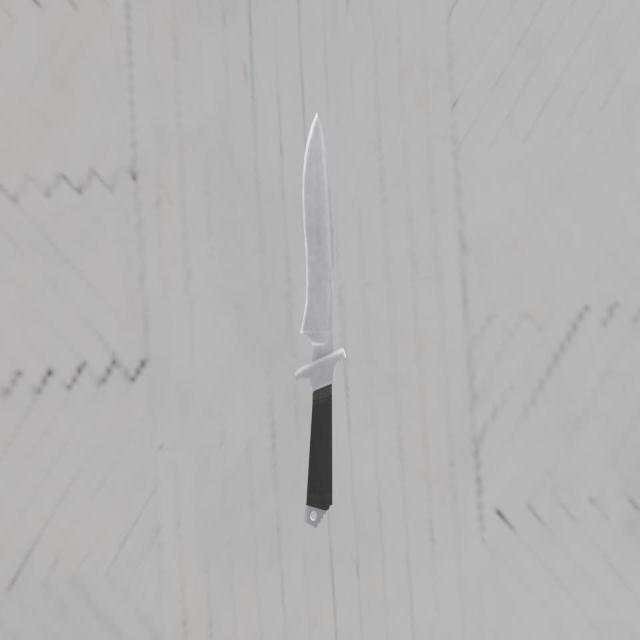knife: (305, 383, 332, 528)
